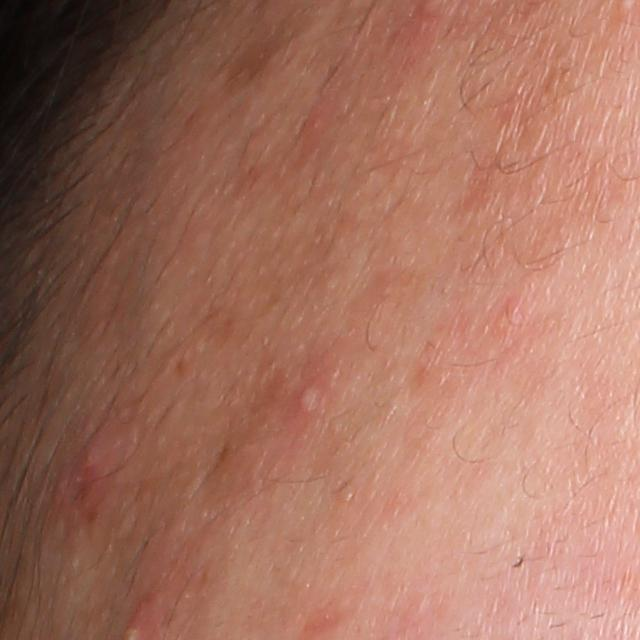papule: (74, 432, 115, 517)
pustule: (287, 375, 332, 421)
